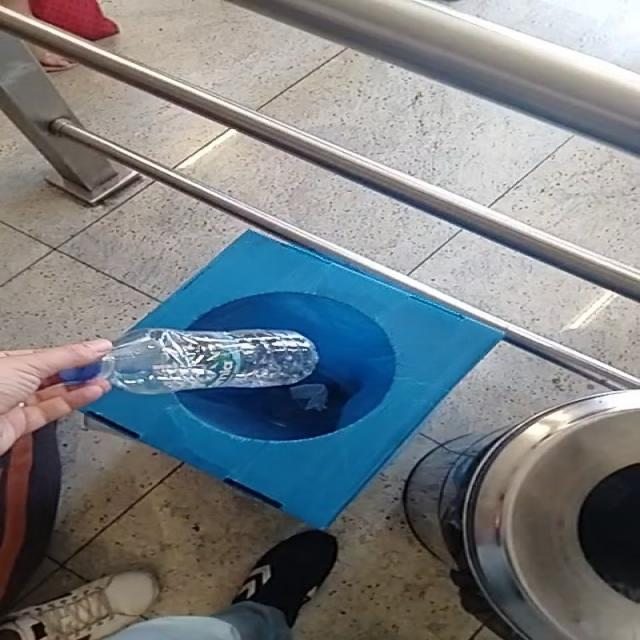plastic: (59, 329, 319, 395), (445, 0, 640, 69)
